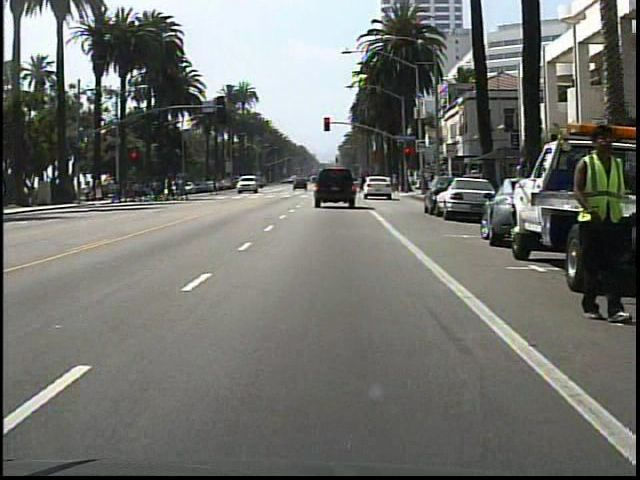person: (557, 118, 633, 327), (206, 172, 225, 201)
